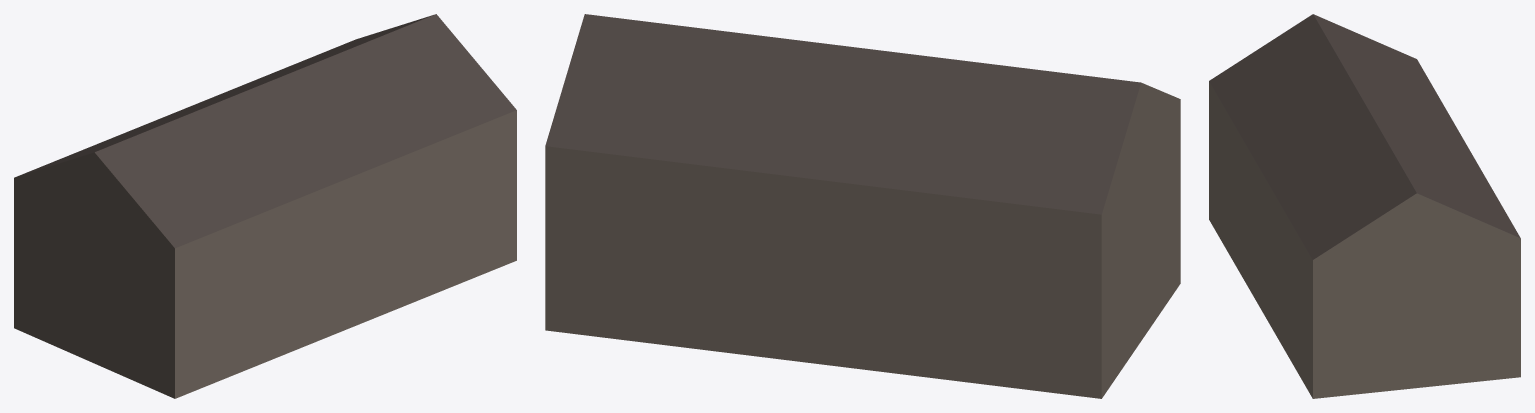
3 renders of one model, left to right at view 1: azimuth 30°, elevation 25°; view 2: azimuth 150°, elevation 25°; view 3: azimuth 270°, elevation 25°, orthographic. The views are drawn at different scales.
Visible parts, largest first — view 1: HP-w859424226; view 2: HP-w859424226; view 3: HP-w859424226.
Boxes of the visible parts, left/top/right/bottom form: HP-w859424226: left=14, top=14, right=516, bottom=398; HP-w859424226: left=545, top=14, right=1180, bottom=398; HP-w859424226: left=1209, top=14, right=1520, bottom=398.
Size of the model in its own units: 27.94 by 12.63 by 18.32.
